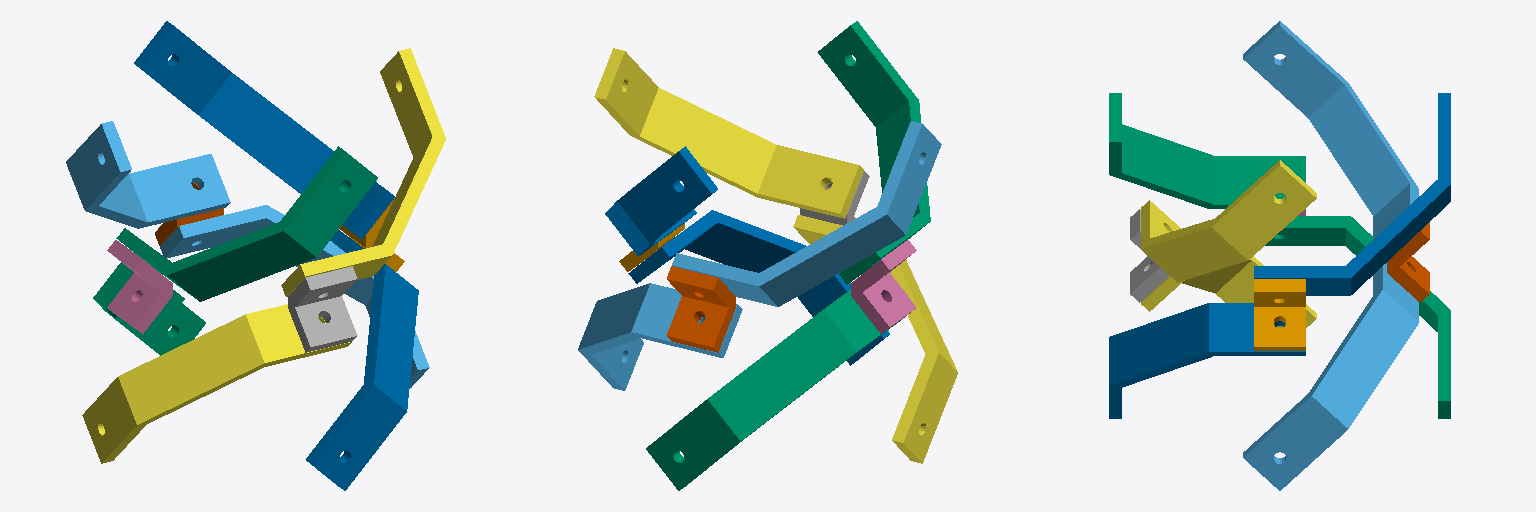
The robot description file, URDF, robot "itp2":
<?xml version="1.0" ?>
<robot name="itp2">
<mujoco>
  <compiler balanceinertia="true" discardvisual="false" meshdir="meshes" fusestatic="false"/>
</mujoco>
<link name="base_link">
  <inertial>
    <origin xyz="-4.28110505425844e-17 9.275727617559952e-17 0.0" rpy="0 0 0"/>
    <mass value="0.31269088172467374"/>
    <inertia ixx="0.0005627556700949108" iyy="0.0005627556700949188" izz="0.001104459216574521" ixy="1.0709300113376218e-18" iyz="-2.2311041902867143e-20" ixz="0.0"/>
  </inertial>
  <visual>
    <origin xyz="0 0 0" rpy="0 0 0"/>
    <geometry>
      <mesh filename="meshes/base_link.stl" scale="0.001 0.001 0.001"/>
    </geometry>

  </visual>
  <collision>
    <origin xyz="0 0 0" rpy="0 0 0"/>
    <geometry>
      <mesh filename="meshes/base_link.stl" scale="0.001 0.001 0.001"/>
    </geometry>
  </collision>
</link>

<link name="l_link_down1">
  <inertial>
    <origin xyz="-0.020733135994442133 -0.02801688872157571 0.028016888721575074" rpy="0 0 0"/>
    <mass value="0.09643048480330162"/>
    <inertia ixx="5.47588545979649e-05" iyy="7.887496262357974e-05" izz="7.887496262357972e-05" ixy="-3.146432362828854e-05" iyz="2.4116108025676374e-05" ixz="3.1464323628288524e-05"/>
  </inertial>
  <visual>
    <origin xyz="-0.060355 0.0 -0.0" rpy="0 0 0"/>
    <geometry>
      <mesh filename="meshes/l_link_down1.stl" scale="0.001 0.001 0.001"/>
    </geometry>

  </visual>
  <collision>
    <origin xyz="-0.060355 0.0 -0.0" rpy="0 0 0"/>
    <geometry>
      <mesh filename="meshes/l_link_down1.stl" scale="0.001 0.001 0.001"/>
    </geometry>
  </collision>
</link>

<link name="l_link_down2">
  <inertial>
    <origin xyz="0.02801688872157509 -0.020733135994442146 0.02801688872157506" rpy="0 0 0"/>
    <mass value="0.09643048480330162"/>
    <inertia ixx="7.887496262357947e-05" iyy="5.475885459796503e-05" izz="7.887496262357947e-05" ixy="3.14643236282885e-05" iyz="3.146432362828855e-05" ixz="-2.411610802567636e-05"/>
  </inertial>
  <visual>
    <origin xyz="-0.0 -0.060355 -0.0" rpy="0 0 0"/>
    <geometry>
      <mesh filename="meshes/l_link_down2.stl" scale="0.001 0.001 0.001"/>
    </geometry>

  </visual>
  <collision>
    <origin xyz="-0.0 -0.060355 -0.0" rpy="0 0 0"/>
    <geometry>
      <mesh filename="meshes/l_link_down2.stl" scale="0.001 0.001 0.001"/>
    </geometry>
  </collision>
</link>

<link name="l_link_down3">
  <inertial>
    <origin xyz="0.020733135994442146 0.028016888721575716 0.028016888721575074" rpy="0 0 0"/>
    <mass value="0.09643048480330162"/>
    <inertia ixx="5.475885459796484e-05" iyy="7.887496262357982e-05" izz="7.887496262357977e-05" ixy="-3.146432362828855e-05" iyz="-2.4116108025676346e-05" ixz="-3.14643236282885e-05"/>
  </inertial>
  <visual>
    <origin xyz="0.060355 -0.0 -0.0" rpy="0 0 0"/>
    <geometry>
      <mesh filename="meshes/l_link_down3.stl" scale="0.001 0.001 0.001"/>
    </geometry>

  </visual>
  <collision>
    <origin xyz="0.060355 -0.0 -0.0" rpy="0 0 0"/>
    <geometry>
      <mesh filename="meshes/l_link_down3.stl" scale="0.001 0.001 0.001"/>
    </geometry>
  </collision>
</link>

<link name="l_link_down4">
  <inertial>
    <origin xyz="-0.028016888721575723 0.020733135994442146 0.028016888721575074" rpy="0 0 0"/>
    <mass value="0.09643048480330162"/>
    <inertia ixx="7.887496262357982e-05" iyy="5.47588545979649e-05" izz="7.887496262357972e-05" ixy="3.146432362828855e-05" iyz="-3.14643236282885e-05" ixz="2.4116108025676346e-05"/>
  </inertial>
  <visual>
    <origin xyz="0.0 0.060355 -0.0" rpy="0 0 0"/>
    <geometry>
      <mesh filename="meshes/l_link_down4.stl" scale="0.001 0.001 0.001"/>
    </geometry>

  </visual>
  <collision>
    <origin xyz="0.0 0.060355 -0.0" rpy="0 0 0"/>
    <geometry>
      <mesh filename="meshes/l_link_down4.stl" scale="0.001 0.001 0.001"/>
    </geometry>
  </collision>
</link>

<link name="v_link4">
  <inertial>
    <origin xyz="7.345416786464478e-15 -0.04915865567859516 -0.010754999999999994" rpy="0 0 0"/>
    <mass value="0.028819963707284894"/>
    <inertia ixx="2.33879319481135e-06" iyy="2.8657005996045152e-06" izz="1.4974559265121772e-06" ixy="-1.0952804334764277e-19" iyz="-1.3552527156068805e-20" ixz="-1.5407439555097887e-33"/>
  </inertial>
  <visual>
    <origin xyz="-0.0 0.0 -0.065755" rpy="0 0 0"/>
    <geometry>
      <mesh filename="meshes/v_link4.stl" scale="0.001 0.001 0.001"/>
    </geometry>

  </visual>
  <collision>
    <origin xyz="-0.0 0.0 -0.065755" rpy="0 0 0"/>
    <geometry>
      <mesh filename="meshes/v_link4.stl" scale="0.001 0.001 0.001"/>
    </geometry>
  </collision>
</link>

<link name="v_link1">
  <inertial>
    <origin xyz="0.04915865567859516 7.354447085013556e-15 -0.010754999999999994" rpy="0 0 0"/>
    <mass value="0.028819963707284894"/>
    <inertia ixx="2.8657005996045152e-06" iyy="2.33879319481135e-06" izz="1.4974559265121772e-06" ixy="1.0962483466765328e-19" iyz="0.0" ixz="1.3552527156068805e-20"/>
  </inertial>
  <visual>
    <origin xyz="-0.0 0.0 -0.065755" rpy="0 0 0"/>
    <geometry>
      <mesh filename="meshes/v_link1.stl" scale="0.001 0.001 0.001"/>
    </geometry>
  </visual>
  <collision>
    <origin xyz="-0.0 0.0 -0.065755" rpy="0 0 0"/>
    <geometry>
      <mesh filename="meshes/v_link1.stl" scale="0.001 0.001 0.001"/>
    </geometry>
  </collision>
</link>

<link name="v_link2">
  <inertial>
    <origin xyz="-7.351436985497198e-15 0.04915865567859516 -0.010754999999999994" rpy="0 0 0"/>
    <mass value="0.028819963707284894"/>
    <inertia ixx="2.33879319481135e-06" iyy="2.8657005996045152e-06" izz="1.4974559265121772e-06" ixy="-1.0959257089431901e-19" iyz="1.3552527156068805e-20" ixz="-1.5407439555097887e-33"/>
  </inertial>
  <visual>
    <origin xyz="-0.0 -0.0 -0.065755" rpy="0 0 0"/>
    <geometry>
      <mesh filename="meshes/v_link2.stl" scale="0.001 0.001 0.001"/>
    </geometry>

  </visual>
  <collision>
    <origin xyz="-0.0 -0.0 -0.065755" rpy="0 0 0"/>
    <geometry>
      <mesh filename="meshes/v_link2.stl" scale="0.001 0.001 0.001"/>
    </geometry>
  </collision>
</link>

<link name="v_link3">
  <inertial>
    <origin xyz="-0.04915865567859516 -7.348426885980838e-15 -0.010754999999999994" rpy="0 0 0"/>
    <mass value="0.028819963707284894"/>
    <inertia ixx="2.8657005996045152e-06" iyy="2.33879319481135e-06" izz="1.4974559265121772e-06" ixy="1.0956030712098166e-19" iyz="0.0" ixz="-1.3552527156068805e-20"/>
  </inertial>
  <visual>
    <origin xyz="0.0 -0.0 -0.065755" rpy="0 0 0"/>
    <geometry>
      <mesh filename="meshes/v_link3.stl" scale="0.001 0.001 0.001"/>
    </geometry>

  </visual>
  <collision>
    <origin xyz="0.0 -0.0 -0.065755" rpy="0 0 0"/>
    <geometry>
      <mesh filename="meshes/v_link3.stl" scale="0.001 0.001 0.001"/>
    </geometry>
  </collision>
</link>

<link name="l_link_up3">
  <inertial>
    <origin xyz="-0.03962186400555785 -0.018762111278424285 0.01876211127842492" rpy="0 0 0"/>
    <mass value="0.09643048480330162"/>
    <inertia ixx="5.4758854597965006e-05" iyy="7.887496262357985e-05" izz="7.887496262357977e-05" ixy="-3.146432362828855e-05" iyz="2.4116108025676346e-05" ixz="3.1464323628288646e-05"/>
  </inertial>
  <visual>
    <origin xyz="-0.0 -0.046779 -0.063221" rpy="0 0 0"/>
    <geometry>
      <mesh filename="meshes/l_link_up3.stl" scale="0.001 0.001 0.001"/>
    </geometry>

  </visual>
  <collision>
    <origin xyz="-0.0 -0.046779 -0.063221" rpy="0 0 0"/>
    <geometry>
      <mesh filename="meshes/l_link_up3.stl" scale="0.001 0.001 0.001"/>
    </geometry>
  </collision>
</link>

<link name="l_link_up4">
  <inertial>
    <origin xyz="0.018762111278424278 -0.03962186400555785 0.01876211127842492" rpy="0 0 0"/>
    <mass value="0.09643048480330162"/>
    <inertia ixx="7.887496262357985e-05" iyy="5.47588545979649e-05" izz="7.887496262357972e-05" ixy="3.146432362828855e-05" iyz="3.1464323628288646e-05" ixz="-2.4116108025676374e-05"/>
  </inertial>
  <visual>
    <origin xyz="0.046779 -0.0 -0.063221" rpy="0 0 0"/>
    <geometry>
      <mesh filename="meshes/l_link_up4.stl" scale="0.001 0.001 0.001"/>
    </geometry>
 
  </visual>
  <collision>
    <origin xyz="0.046779 -0.0 -0.063221" rpy="0 0 0"/>
    <geometry>
      <mesh filename="meshes/l_link_up4.stl" scale="0.001 0.001 0.001"/>
    </geometry>
  </collision>
</link>

<link name="l_link_up1">
  <inertial>
    <origin xyz="0.039621864005557866 0.018762111278424292 0.01876211127842492" rpy="0 0 0"/>
    <mass value="0.09643048480330162"/>
    <inertia ixx="5.4758854597965006e-05" iyy="7.887496262357963e-05" izz="7.887496262357972e-05" ixy="-3.146432362828854e-05" iyz="-2.4116108025676374e-05" ixz="-3.1464323628288484e-05"/>
  </inertial>
  <visual>
    <origin xyz="0.0 0.046779 -0.063221" rpy="0 0 0"/>
    <geometry>
      <mesh filename="meshes/l_link_up1.stl" scale="0.001 0.001 0.001"/>
    </geometry>

  </visual>
  <collision>
    <origin xyz="0.0 0.046779 -0.063221" rpy="0 0 0"/>
    <geometry>
      <mesh filename="meshes/l_link_up1.stl" scale="0.001 0.001 0.001"/>
    </geometry>
  </collision>
</link>

<link name="l_link_up2">
  <inertial>
    <origin xyz="-0.018762111278424285 0.039621864005557866 0.01876211127842492" rpy="0 0 0"/>
    <mass value="0.09643048480330162"/>
    <inertia ixx="7.887496262357963e-05" iyy="5.4758854597965006e-05" izz="7.887496262357963e-05" ixy="3.146432362828854e-05" iyz="-3.1464323628288484e-05" ixz="2.4116108025676346e-05"/>
  </inertial>
  <visual>
    <origin xyz="-0.046779 0.0 -0.063221" rpy="0 0 0"/>
    <geometry>
      <mesh filename="meshes/l_link_up2.stl" scale="0.001 0.001 0.001"/>
    </geometry>

  </visual>
  <collision>
    <origin xyz="-0.046779 0.0 -0.063221" rpy="0 0 0"/>
    <geometry>
      <mesh filename="meshes/l_link_up2.stl" scale="0.001 0.001 0.001"/>
    </geometry>
  </collision>
</link>

<link name="ring1">
  <inertial>
    <origin xyz="-0.07778200000000005 -0.06075499999999991 -0.077782" rpy="0 0 0"/>
    <mass value="0.31269088172467374"/>
    <inertia ixx="0.0005627556700949108" iyy="0.0005627556700949186" izz="0.001104459216574521" ixy="1.0709300113376218e-18" iyz="-2.231104190286715e-20" ixz="0.0"/>
  </inertial>
  <visual>
    <origin xyz="-0.077782 -0.060755 -0.187782" rpy="0 0 0"/>
    <geometry>
      <mesh filename="meshes/ring1.stl" scale="0.001 0.001 0.001"/>
    </geometry>

  </visual>
  <collision>
    <origin xyz="-0.077782 -0.060755 -0.187782" rpy="0 0 0"/>
    <geometry>
      <mesh filename="meshes/ring1.stl" scale="0.001 0.001 0.001"/>
    </geometry>
  </collision>
</link>

<joint name="Revolute_33" type="continuous">
  <origin xyz="0.060355 0.0 0.0" rpy="0 0 0"/>
  <parent link="base_link"/>
  <child link="l_link_down1"/>
  <axis xyz="-1.0 0.0 0.0"/>
</joint>
<transmission name="Revolute_33_tran">
  <type>transmission_interface/SimpleTransmission</type>
  <joint name="Revolute_33">
    <hardwareInterface>PositionJointInterface</hardwareInterface>
  </joint>
  <actuator name="Revolute_33_actr">
    <hardwareInterface>PositionJointInterface</hardwareInterface>
    <mechanicalReduction>1</mechanicalReduction>
  </actuator>
</transmission>

<joint name="Revolute_38" type="continuous">
  <origin xyz="0.0 0.060355 0.0" rpy="0 0 0"/>
  <parent link="base_link"/>
  <child link="l_link_down2"/>
  <axis xyz="-0.0 -1.0 0.0"/>
</joint>
<transmission name="Revolute_38_tran">
  <type>transmission_interface/SimpleTransmission</type>
  <joint name="Revolute_38">
    <hardwareInterface>PositionJointInterface</hardwareInterface>
  </joint>
  <actuator name="Revolute_38_actr">
    <hardwareInterface>PositionJointInterface</hardwareInterface>
    <mechanicalReduction>1</mechanicalReduction>
  </actuator>
</transmission>

<joint name="Revolute_35" type="continuous">
  <origin xyz="-0.060355 0.0 0.0" rpy="0 0 0"/>
  <parent link="base_link"/>
  <child link="l_link_down3"/>
  <axis xyz="1.0 -0.0 0.0"/>
</joint>
<transmission name="Revolute_35_tran">
  <type>transmission_interface/SimpleTransmission</type>
  <joint name="Revolute_35">
    <hardwareInterface>PositionJointInterface</hardwareInterface>
  </joint>
  <actuator name="Revolute_35_actr">
    <hardwareInterface>PositionJointInterface</hardwareInterface>
    <mechanicalReduction>1</mechanicalReduction>
  </actuator>
</transmission>

<joint name="Revolute_36" type="continuous">
  <origin xyz="0.0 -0.060355 0.0" rpy="0 0 0"/>
  <parent link="base_link"/>
  <child link="l_link_down4"/>
  <axis xyz="0.0 1.0 0.0"/>
</joint>
<transmission name="Revolute_36_tran">
  <type>transmission_interface/SimpleTransmission</type>
  <joint name="Revolute_36">
    <hardwareInterface>PositionJointInterface</hardwareInterface>
  </joint>
  <actuator name="Revolute_36_actr">
    <hardwareInterface>PositionJointInterface</hardwareInterface>
    <mechanicalReduction>1</mechanicalReduction>
  </actuator>
</transmission>

<joint name="Revolute_40" type="continuous">
  <origin xyz="-0.060355 0.0 0.065755" rpy="0 0 0"/>
  <parent link="l_link_down1"/>
  <child link="v_link4"/>
  <axis xyz="0.0 0.707107 -0.707107"/>
</joint>
<transmission name="Revolute_40_tran">
  <type>transmission_interface/SimpleTransmission</type>
  <joint name="Revolute_40">
    <hardwareInterface>PositionJointInterface</hardwareInterface>
  </joint>
  <actuator name="Revolute_40_actr">
    <hardwareInterface>PositionJointInterface</hardwareInterface>
    <mechanicalReduction>1</mechanicalReduction>
  </actuator>
</transmission>

<joint name="Revolute_41" type="continuous">
  <origin xyz="0.0 -0.060355 0.065755" rpy="0 0 0"/>
  <parent link="l_link_down2"/>
  <child link="v_link1"/>
  <axis xyz="-0.707107 0.0 -0.707107"/>
</joint>
<transmission name="Revolute_41_tran">
  <type>transmission_interface/SimpleTransmission</type>
  <joint name="Revolute_41">
    <hardwareInterface>PositionJointInterface</hardwareInterface>
  </joint>
  <actuator name="Revolute_41_actr">
    <hardwareInterface>PositionJointInterface</hardwareInterface>
    <mechanicalReduction>1</mechanicalReduction>
  </actuator>
</transmission>

<joint name="Revolute_42" type="continuous">
  <origin xyz="0.060355 0.0 0.065755" rpy="0 0 0"/>
  <parent link="l_link_down3"/>
  <child link="v_link2"/>
  <axis xyz="-0.0 -0.707107 -0.707107"/>
</joint>
<transmission name="Revolute_42_tran">
  <type>transmission_interface/SimpleTransmission</type>
  <joint name="Revolute_42">
    <hardwareInterface>PositionJointInterface</hardwareInterface>
  </joint>
  <actuator name="Revolute_42_actr">
    <hardwareInterface>PositionJointInterface</hardwareInterface>
    <mechanicalReduction>1</mechanicalReduction>
  </actuator>
</transmission>

<joint name="Revolute_43" type="continuous">
  <origin xyz="0.0 0.060355 0.065755" rpy="0 0 0"/>
  <parent link="l_link_down4"/>
  <child link="v_link3"/>
  <axis xyz="0.707107 -0.0 -0.707107"/>
</joint>
<transmission name="Revolute_43_tran">
  <type>transmission_interface/SimpleTransmission</type>
  <joint name="Revolute_43">
    <hardwareInterface>PositionJointInterface</hardwareInterface>
  </joint>
  <actuator name="Revolute_43_actr">
    <hardwareInterface>PositionJointInterface</hardwareInterface>
    <mechanicalReduction>1</mechanicalReduction>
  </actuator>
</transmission>

<joint name="Revolute_44" type="continuous">
  <origin xyz="0.0 0.046779 -0.002534" rpy="0 0 0"/>
  <parent link="v_link2"/>
  <child link="l_link_up3"/>
  <axis xyz="0.0 0.707107 -0.707107"/>
</joint>
<transmission name="Revolute_44_tran">
  <type>transmission_interface/SimpleTransmission</type>
  <joint name="Revolute_44">
    <hardwareInterface>PositionJointInterface</hardwareInterface>
  </joint>
  <actuator name="Revolute_44_actr">
    <hardwareInterface>PositionJointInterface</hardwareInterface>
    <mechanicalReduction>1</mechanicalReduction>
  </actuator>
</transmission>

<joint name="Revolute_45" type="continuous">
  <origin xyz="-0.046779 0.0 -0.002534" rpy="0 0 0"/>
  <parent link="v_link3"/>
  <child link="l_link_up4"/>
  <axis xyz="-0.707107 0.0 -0.707107"/>
</joint>
<transmission name="Revolute_45_tran">
  <type>transmission_interface/SimpleTransmission</type>
  <joint name="Revolute_45">
    <hardwareInterface>PositionJointInterface</hardwareInterface>
  </joint>
  <actuator name="Revolute_45_actr">
    <hardwareInterface>PositionJointInterface</hardwareInterface>
    <mechanicalReduction>1</mechanicalReduction>
  </actuator>
</transmission>

<joint name="Revolute_46" type="continuous">
  <origin xyz="-0.0 -0.046779 -0.002534" rpy="0 0 0"/>
  <parent link="v_link4"/>
  <child link="l_link_up1"/>
  <axis xyz="-0.0 -0.707107 -0.707107"/>
</joint>
<transmission name="Revolute_46_tran">
  <type>transmission_interface/SimpleTransmission</type>
  <joint name="Revolute_46">
    <hardwareInterface>PositionJointInterface</hardwareInterface>
  </joint>
  <actuator name="Revolute_46_actr">
    <hardwareInterface>PositionJointInterface</hardwareInterface>
    <mechanicalReduction>1</mechanicalReduction>
  </actuator>
</transmission>

<joint name="Revolute_47" type="continuous">
  <origin xyz="0.046779 0.0 -0.002534" rpy="0 0 0"/>
  <parent link="v_link1"/>
  <child link="l_link_up2"/>
  <axis xyz="0.707107 0.0 -0.707107"/>
</joint>
<transmission name="Revolute_47_tran">
  <type>transmission_interface/SimpleTransmission</type>
  <joint name="Revolute_47">
    <hardwareInterface>PositionJointInterface</hardwareInterface>
  </joint>
  <actuator name="Revolute_47_actr">
    <hardwareInterface>PositionJointInterface</hardwareInterface>
    <mechanicalReduction>1</mechanicalReduction>
  </actuator>
</transmission>

<joint name="Revolute_48" type="continuous">
  <origin xyz="0.031003 0.060755 0.124561" rpy="0 0 0"/>
  <parent link="l_link_up2"/>
  <child link="ring1"/>
  <axis xyz="-0.0 -1.0 0.0"/>
</joint>
<transmission name="Revolute_48_tran">
  <type>transmission_interface/SimpleTransmission</type>
  <joint name="Revolute_48">
    <hardwareInterface>PositionJointInterface</hardwareInterface>
  </joint>
  <actuator name="Revolute_48_actr">
    <hardwareInterface>PositionJointInterface</hardwareInterface>
    <mechanicalReduction>1</mechanicalReduction>
  </actuator>
</transmission>

</robot>

--- Render facts (derived) ---
Views: 3 orthographic renders of the robot side by side, from view 1: azimuth 30°, elevation 25°; view 2: azimuth 150°, elevation 25°; view 3: azimuth 270°, elevation 25°.
Robot: itp2 — 14 links, 13 joints (13 continuous); root link base_link; default pose: every joint at zero.
Visible links, largest first — view 1: l_link_down3, l_link_up2, l_link_up4, l_link_down4, l_link_up3, l_link_up1, l_link_down1, v_link2, v_link1, l_link_down2, v_link3, v_link4; view 2: l_link_up1, l_link_down2, l_link_up3, l_link_up4, l_link_down1, l_link_down4, l_link_down3, l_link_up2, v_link4, v_link1, v_link2, v_link3; view 3: l_link_down1, l_link_up3, l_link_up1, l_link_up4, l_link_down4, l_link_up2, l_link_down2, v_link3, l_link_down3, v_link4, v_link2.
Link boxes in pixels (x1,y1,x2,y2): l_link_down3: (82, 304, 351, 463); l_link_up2: (134, 21, 394, 239); l_link_up4: (116, 146, 377, 301); l_link_down4: (306, 230, 418, 490); l_link_up3: (66, 121, 230, 228); l_link_up1: (281, 48, 445, 296); l_link_down1: (160, 205, 429, 388); v_link2: (288, 266, 357, 352); v_link1: (107, 240, 172, 333); l_link_down2: (93, 262, 205, 355); v_link3: (339, 198, 404, 271); v_link4: (155, 183, 223, 245); l_link_up1: (594, 48, 863, 218); l_link_down2: (646, 290, 904, 490); l_link_up3: (672, 121, 941, 306); l_link_up4: (818, 21, 930, 284); l_link_down1: (578, 283, 742, 390); l_link_down4: (628, 210, 889, 365); l_link_down3: (793, 215, 957, 463); l_link_up2: (605, 146, 717, 256); v_link4: (666, 266, 735, 352); v_link1: (851, 240, 916, 333); v_link2: (800, 171, 869, 225); v_link3: (619, 223, 684, 271); l_link_down1: (1243, 263, 1418, 490); l_link_up3: (1243, 21, 1418, 239); l_link_up1: (1141, 160, 1316, 282); l_link_up4: (1109, 93, 1305, 208); l_link_down4: (1109, 303, 1305, 418); l_link_up2: (1254, 93, 1450, 295); l_link_down2: (1265, 216, 1450, 418); v_link3: (1254, 279, 1305, 350); l_link_down3: (1141, 256, 1316, 327); v_link4: (1387, 222, 1429, 302); v_link2: (1130, 209, 1169, 302).
Bounding box of the posed robot: 0.1315 × 0.1315 × 0.1383 m (x, y, z).
12 mesh visuals loaded from 14 distinct referenced files (12 binary STL); not drawn: 2 (reference not matched to a file when rendering).